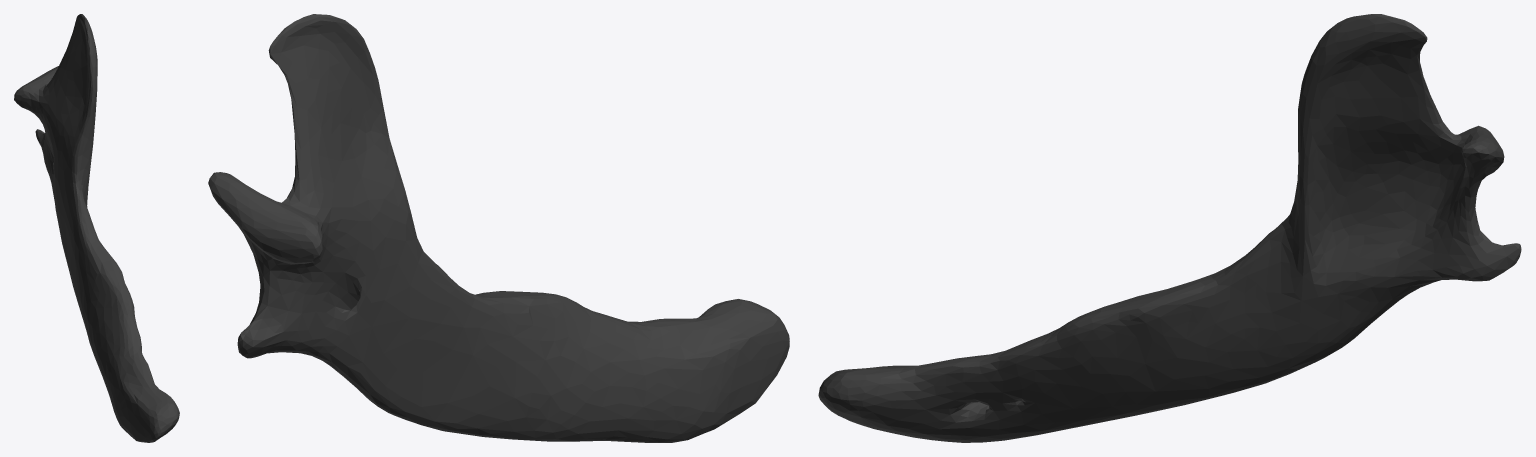
Rendered from MANDIBLE.glb.
The picture shows the model from 3 angles, left to right: view 1: azimuth 30°, elevation 25°; view 2: azimuth 150°, elevation 25°; view 3: azimuth 270°, elevation 25°; orthographic projection. The views are drawn at different scales.
Parts seen in each view (by area): view 1: MANDIBLE; view 2: MANDIBLE; view 3: MANDIBLE.
Boxes of the visible parts, <box> form: MANDIBLE: <box>14,14,179,442</box>; MANDIBLE: <box>208,14,789,442</box>; MANDIBLE: <box>818,14,1521,442</box>.
Bounding box in the file's own units: 0.6112 × 1.45 × 1.86.
Materials: 1 (1 with a texture image).
